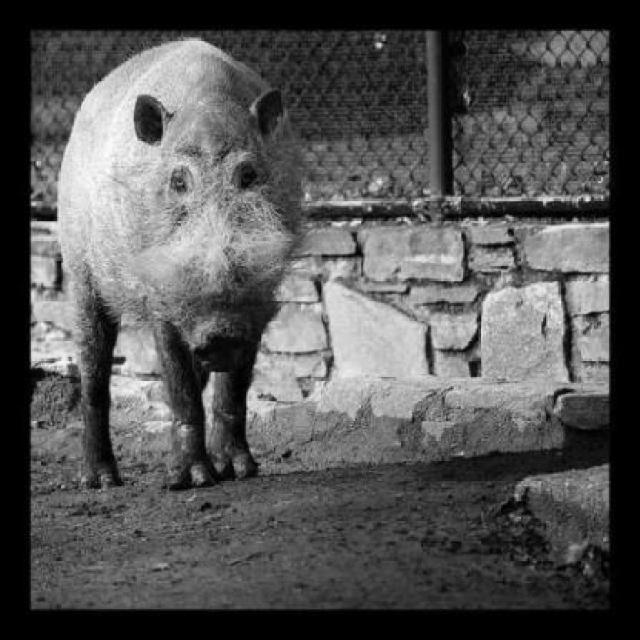Boar: (36, 8, 390, 484)
